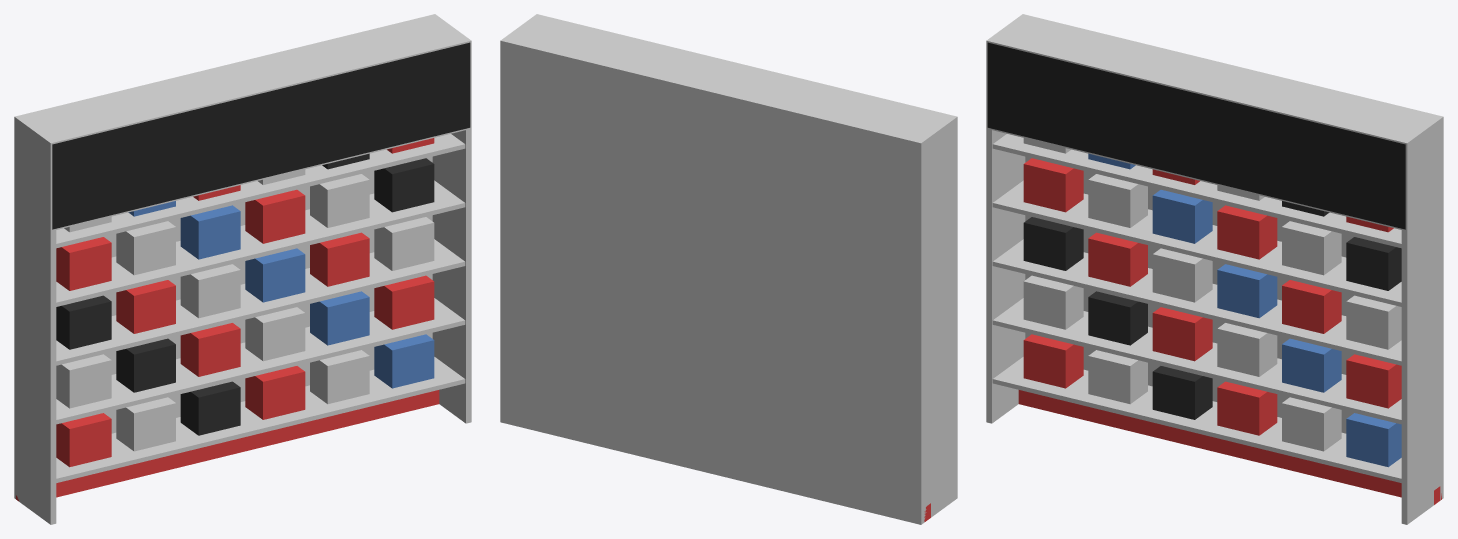
Rendered from nintendo_wall_shelf_3m.glb.
3 renders of one model, left to right at view 1: azimuth 30°, elevation 25°; view 2: azimuth 150°, elevation 25°; view 3: azimuth 330°, elevation 25°, orthographic.
Parts seen in each view (by area): view 1: nintendo_wall_shelf_3m, products, screen; view 2: nintendo_wall_shelf_3m; view 3: nintendo_wall_shelf_3m, products, screen.
Boxes of the visible parts, x1,y1,x2,y2 form: nintendo_wall_shelf_3m: [14, 14, 471, 524]; products: [56, 138, 434, 467]; screen: [52, 42, 470, 229]; nintendo_wall_shelf_3m: [500, 14, 957, 524]; nintendo_wall_shelf_3m: [986, 14, 1443, 524]; products: [1023, 138, 1401, 467]; screen: [987, 42, 1405, 229].
Bounding box in the file's own units: 3 × 2.6 × 0.451.
